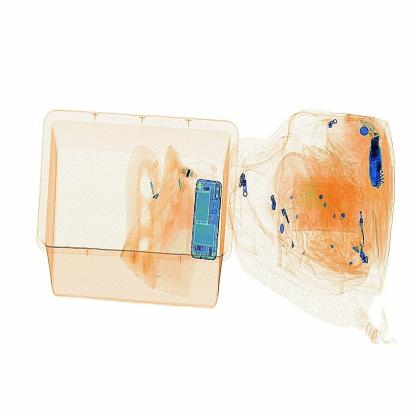scissors: (363, 136, 387, 193)
